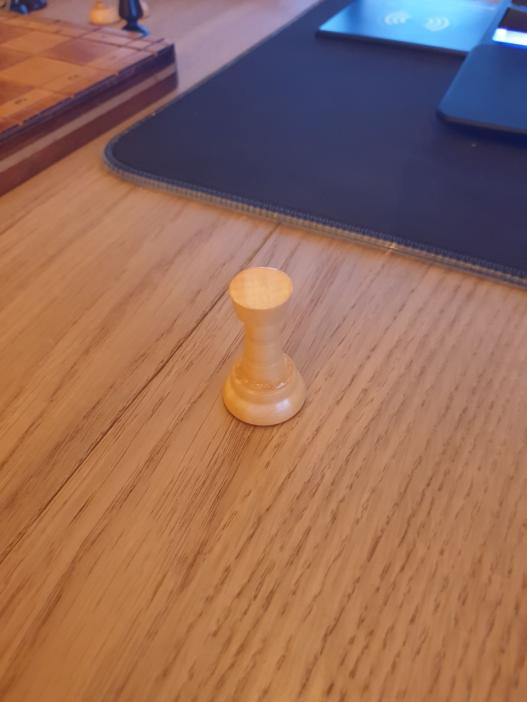wrook: (220, 267, 309, 427)
